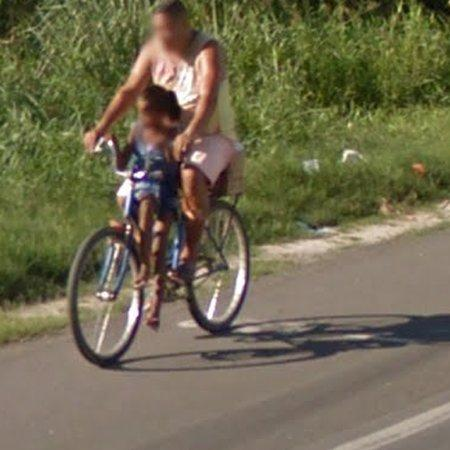bicycles: (68, 137, 145, 368), (185, 153, 251, 333), (166, 214, 184, 296)
